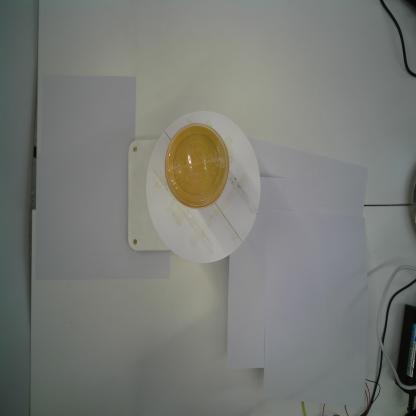Instant Drink: (164, 122, 230, 210)
